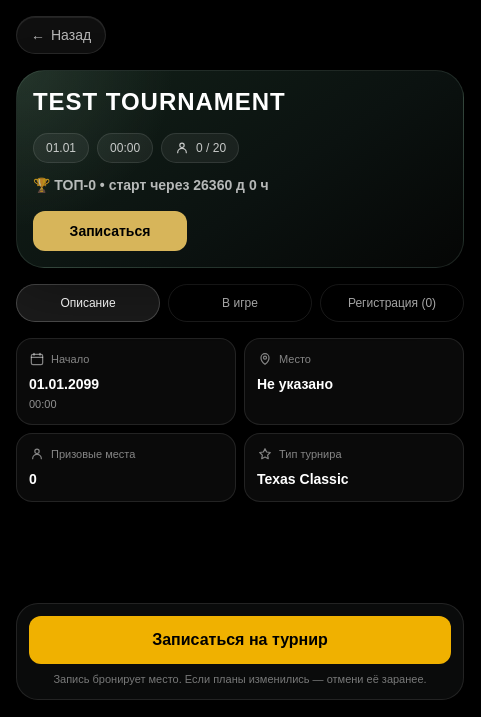
Test case: normal (unrestricted) player -- unchanged › an unrestricted waitlist registration keeps the existing copy
The image size is (481, 717).
Click the button "Записаться на турнир" at [240, 640], box x1=29 y1=616 x2=451 y2=664
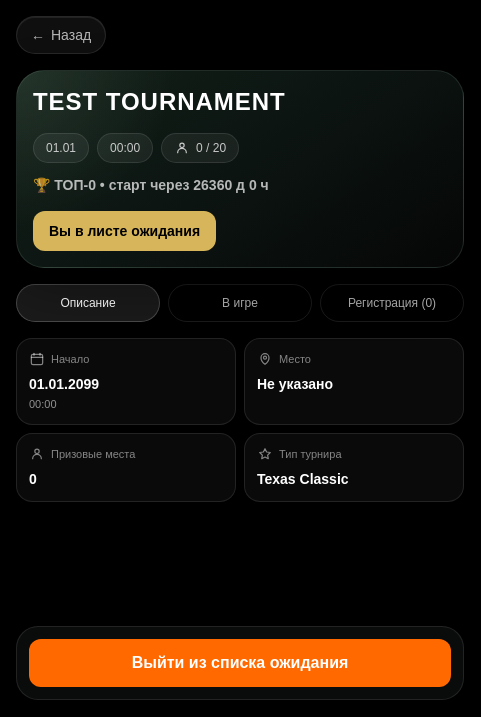
Click the button "Регистрация (0)" at [392, 303], box x1=320 y1=284 x2=464 y2=322
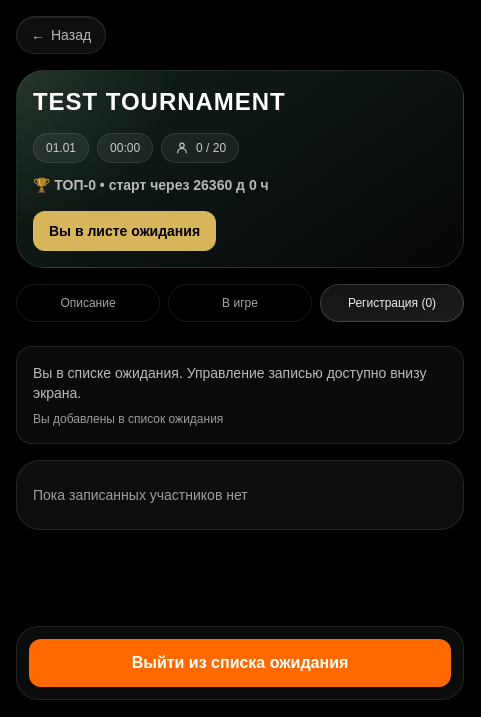
Expected: the text "Вы добавлены в список ожидания" is shown, x1=33 y1=412 x2=223 y2=426
